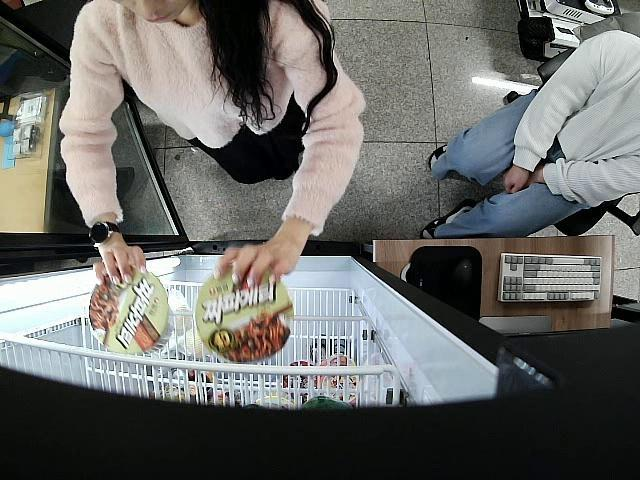03_chapagetti_L: (196, 271, 294, 362), (88, 270, 168, 354)
